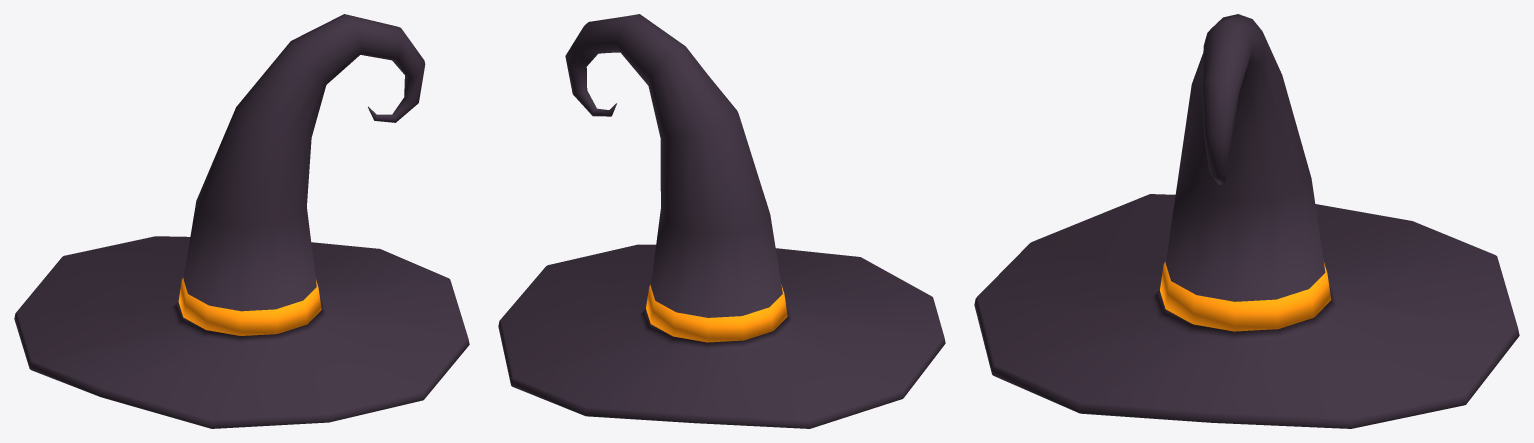
3 views of the same model, side by side, from view 1: azimuth 30°, elevation 25°; view 2: azimuth 150°, elevation 25°; view 3: azimuth 270°, elevation 25° (orthographic). The views are drawn at different scales.
Parts seen in each view (by area): view 1: WitchHat; view 2: WitchHat; view 3: WitchHat.
Boxes of the visible parts, <box> form: WitchHat: <box>14,14,469,428</box>; WitchHat: <box>498,14,945,428</box>; WitchHat: <box>974,14,1519,428</box>.
Size of what is drawn, in the model's own units: 0.9619 by 0.7249 by 0.968.
1 material, 1 textured.
